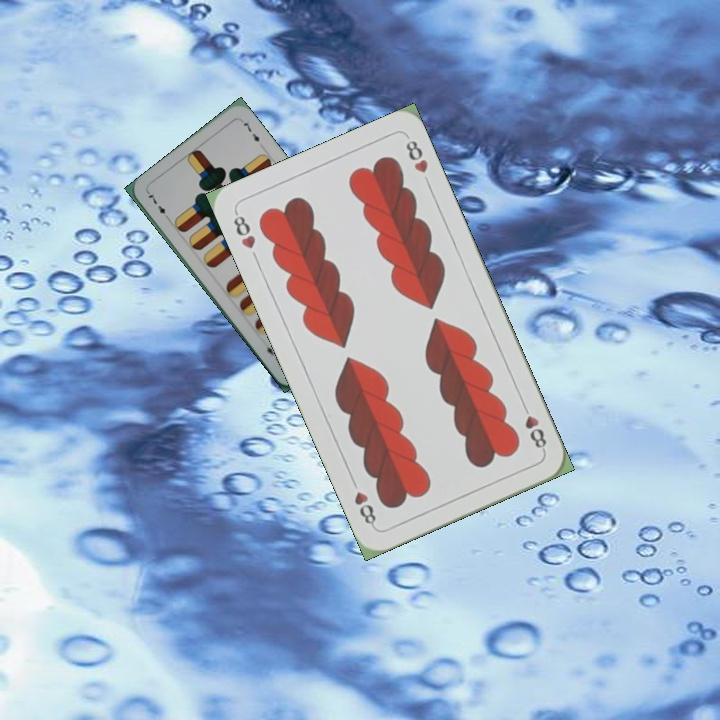E7: (143, 188, 173, 223)
H8: (517, 398, 549, 455), (229, 207, 258, 252)
